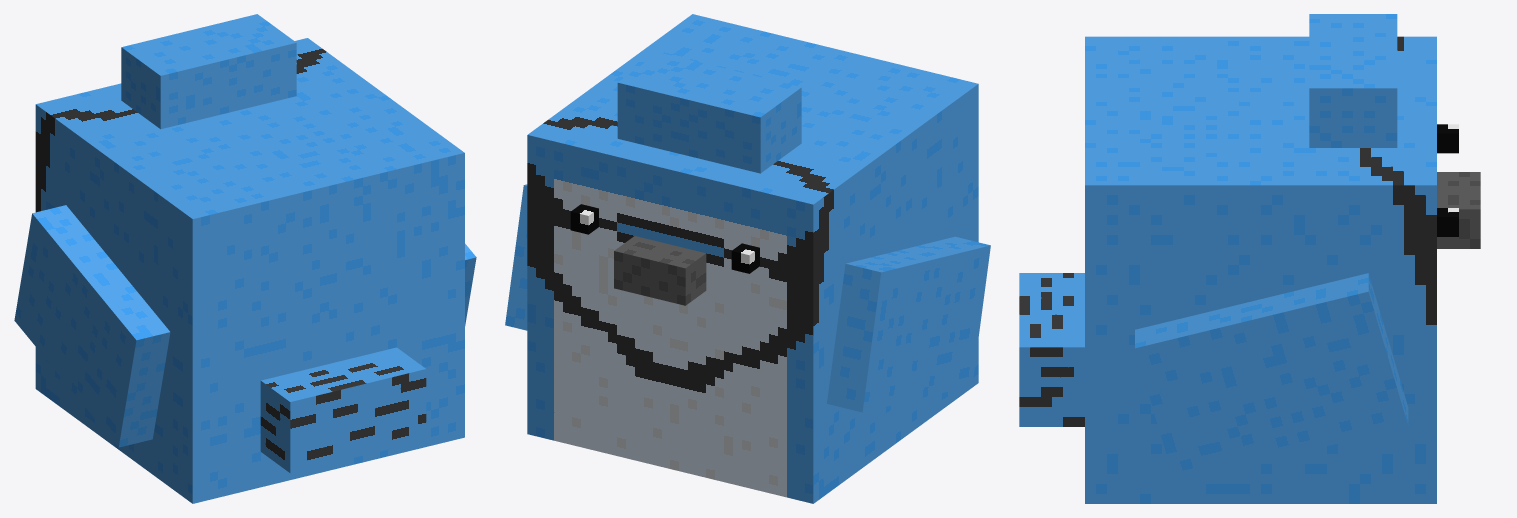
File: Blue_Jay.gltf
3 views of the same model, side by side, from view 1: azimuth 30°, elevation 25°; view 2: azimuth 150°, elevation 25°; view 3: azimuth 270°, elevation 25° (orthographic). The views are drawn at different scales.
Parts seen in each view (by area): view 1: cube (×5); view 2: cube (×7); view 3: cube (×7).
Part boxes in pixels (x1,y1,x2,y2): cube (×5): (14,14,476,503); cube (×7): (505,14,990,503); cube (×7): (1019,14,1480,503).
Bounding box in the file's own units: 0.625 × 0.5938 × 0.6875.
Materials: 10 (7 with a texture image).
